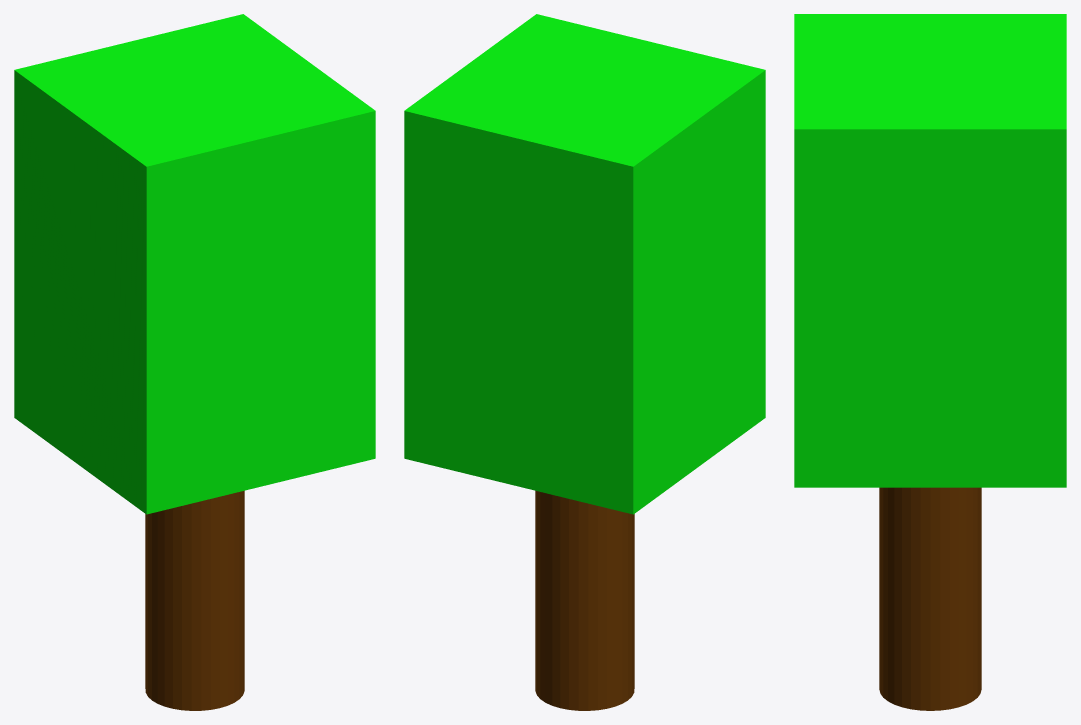
File: tree.fbx
The picture shows the model from 3 angles, left to right: view 1: azimuth 30°, elevation 25°; view 2: azimuth 150°, elevation 25°; view 3: azimuth 270°, elevation 25°; orthographic projection. The views are drawn at different scales.
Parts seen in each view (by area): view 1: Cylinder.001, Cylinder; view 2: Cylinder.001, Cylinder; view 3: Cylinder.001, Cylinder.
Boxes of the visible parts, x1,y1,x2,y2 form: Cylinder.001: (14, 14, 375, 514); Cylinder: (145, 490, 244, 710); Cylinder.001: (404, 14, 765, 514); Cylinder: (535, 490, 634, 710); Cylinder.001: (794, 14, 1066, 487); Cylinder: (879, 487, 981, 710).
Size of the model in its own units: 160 by 400 by 160.
